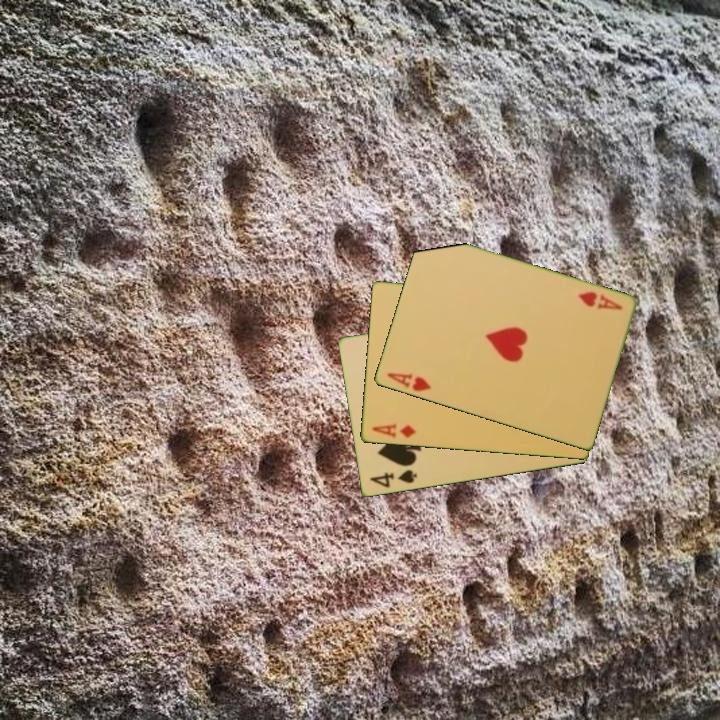4s: (366, 467, 419, 491)
Ad: (368, 420, 418, 441)
Ah: (383, 369, 434, 395), (575, 288, 625, 313)
